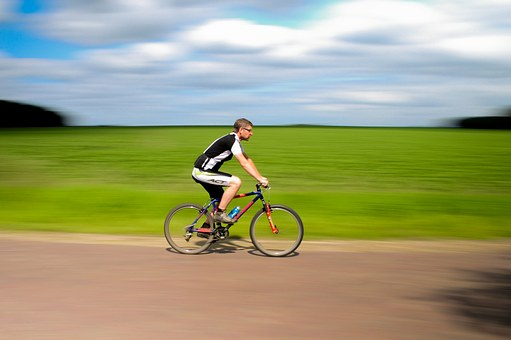bikerider: (153, 114, 309, 263)
